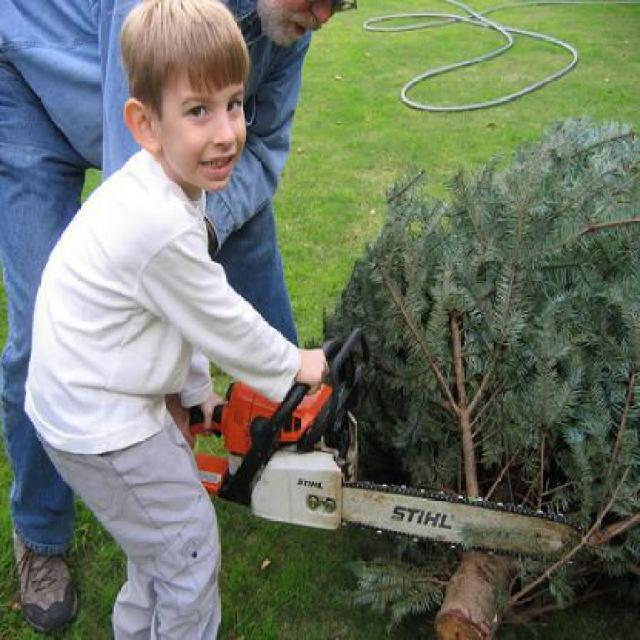Chainsaw: (178, 324, 584, 562)
